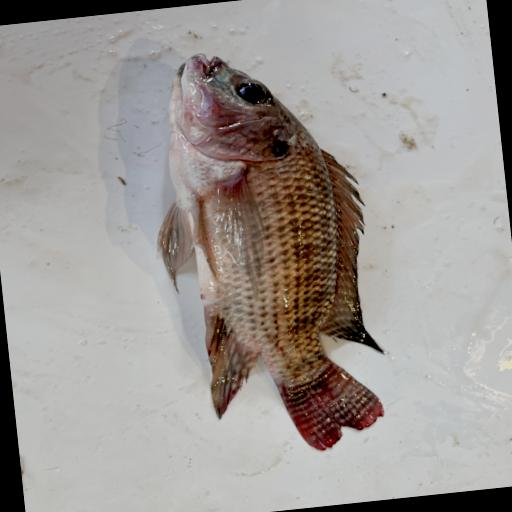Tilapia: (137, 37, 393, 466)
